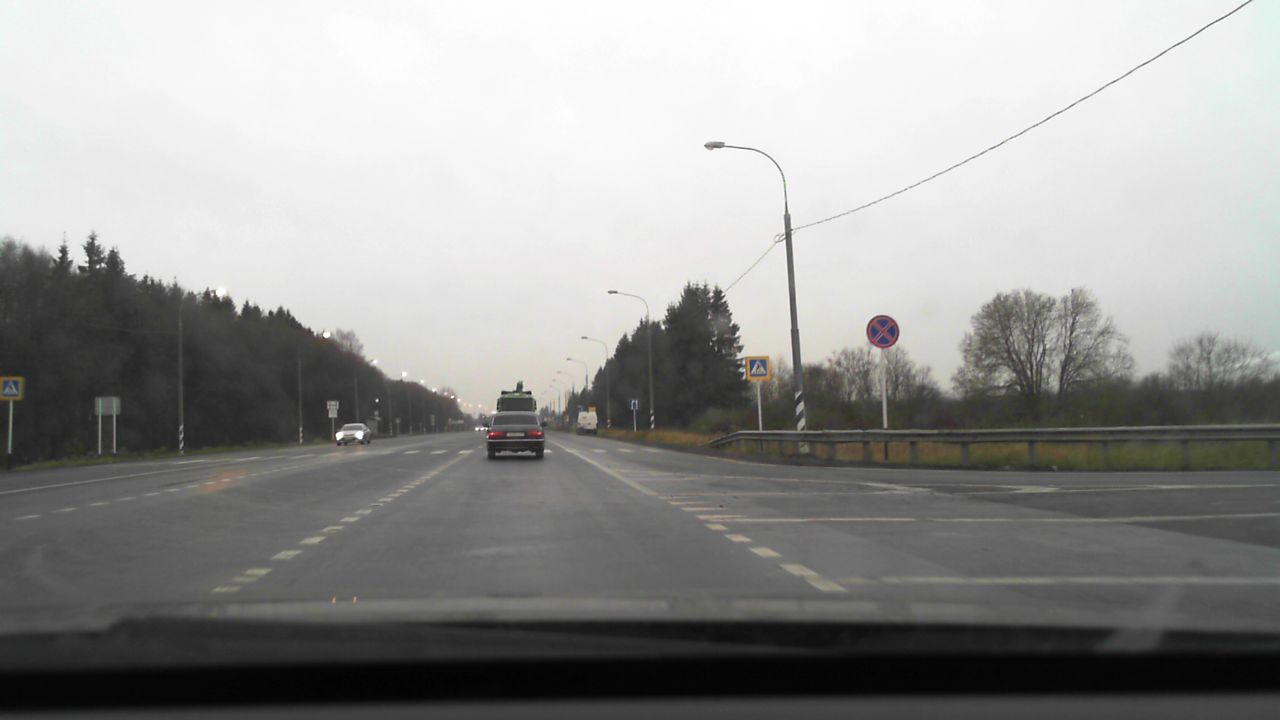No Parking: (866, 314, 900, 348)
